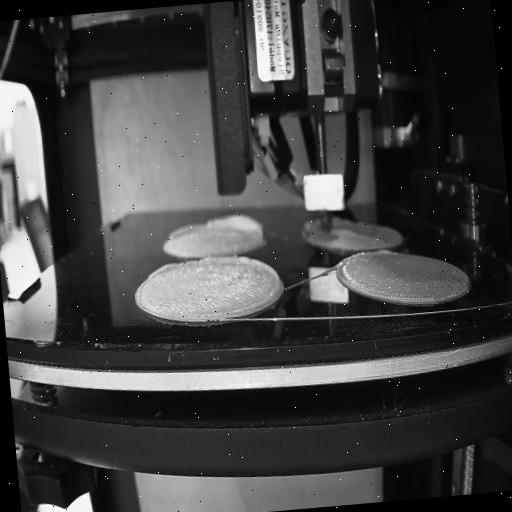over_extrusion: (206, 252, 284, 322), (205, 208, 267, 244), (333, 222, 375, 246), (168, 220, 202, 242), (301, 218, 322, 246), (148, 263, 180, 279), (374, 248, 397, 259)
